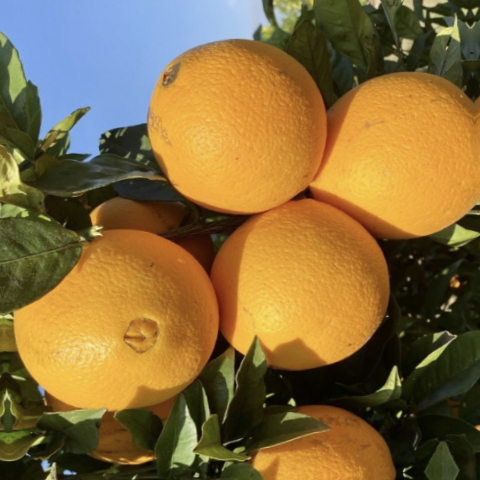orange: (0, 205, 225, 423), (290, 48, 479, 269), (193, 191, 390, 389), (146, 15, 327, 218)
